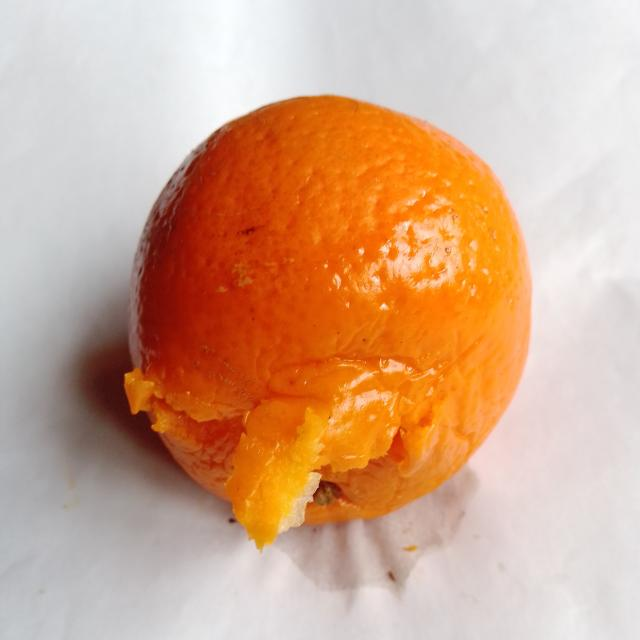orange: (126, 97, 530, 548)
